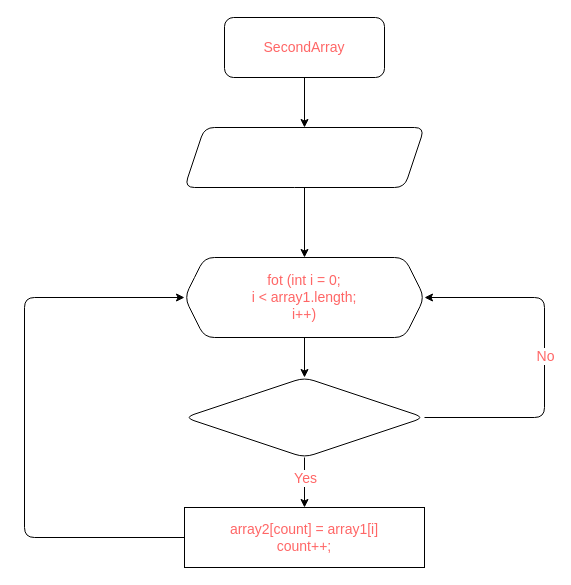
This 571x585 diagram has some shape labels left out. The centre of each missing label's shape, as x and y in pixels:
if (array1[i].length<=3): point 304,417
string array1 string array2 int count = 0: point 304,157
